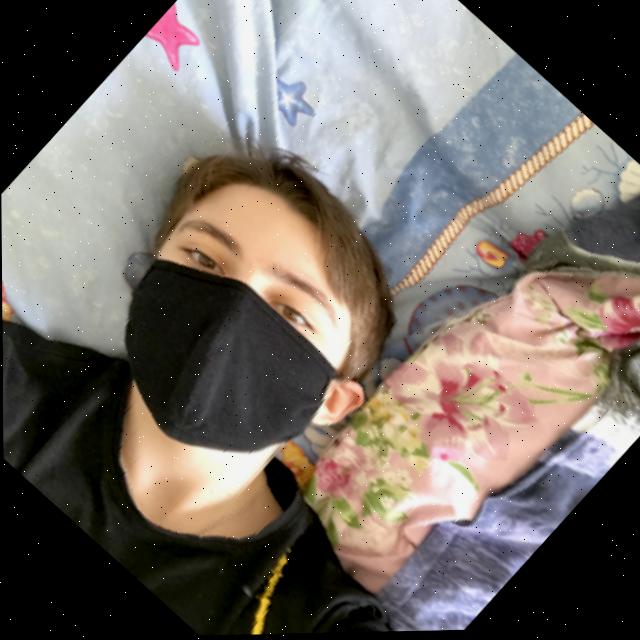Mask: (67, 205, 386, 524)
